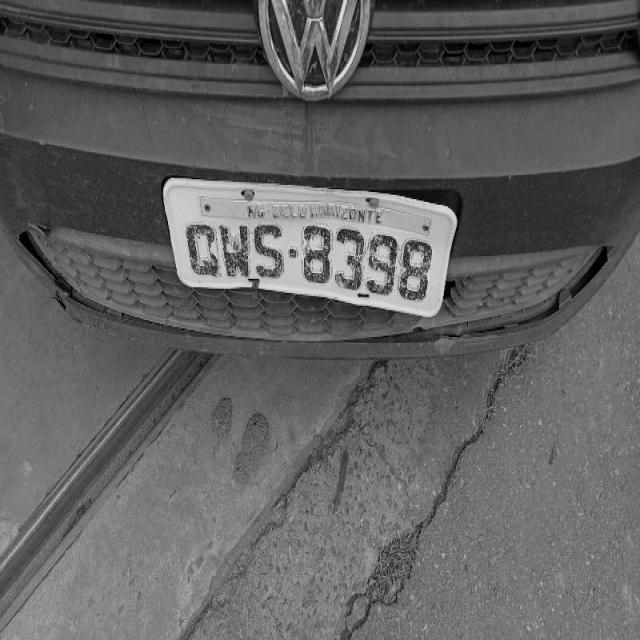placa_antiga: (163, 178, 456, 317)
